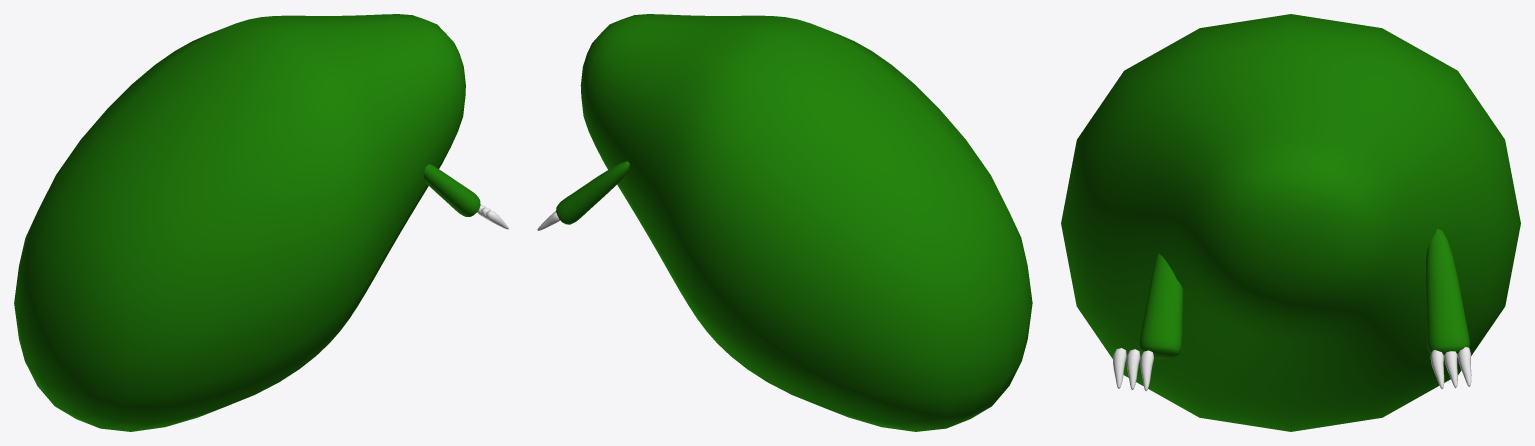
File: Torsorex.fbx
3 views of the same model, side by side, from view 1: azimuth 30°, elevation 25°; view 2: azimuth 150°, elevation 25°; view 3: azimuth 270°, elevation 25° (orthographic). The views are drawn at different scales.
Visible parts, largest first — view 1: body, arms; view 2: body, arms; view 3: body, arms, NailRight, nailLeft.
Boxes of the visible parts, left/top/right/bottom form: body: left=14, top=14, right=465, bottom=431; arms: left=423, top=164, right=480, bottom=216; body: left=580, top=14, right=1032, bottom=431; arms: left=556, top=161, right=629, bottom=224; body: left=1061, top=14, right=1520, bottom=431; arms: left=1139, top=228, right=1470, bottom=358; NailRight: left=1113, top=348, right=1153, bottom=390; nailLeft: left=1430, top=347, right=1471, bottom=388.
Size of the model in its own units: 505 by 403 by 362.
